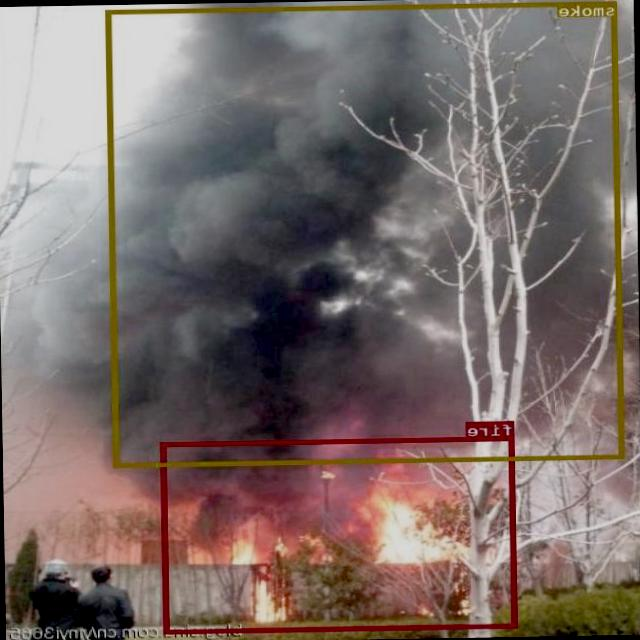fire: (161, 435, 518, 633)
smoke: (106, 0, 625, 466)
